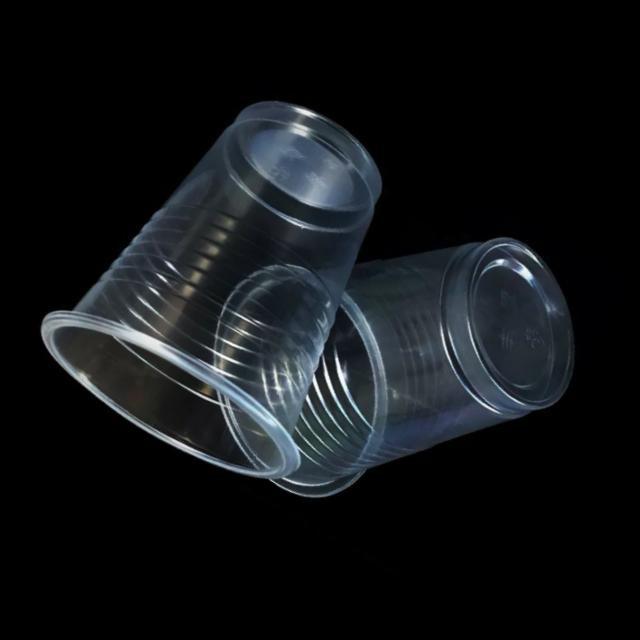GelasPlastik: (154, 131, 619, 593), (18, 44, 455, 507)
